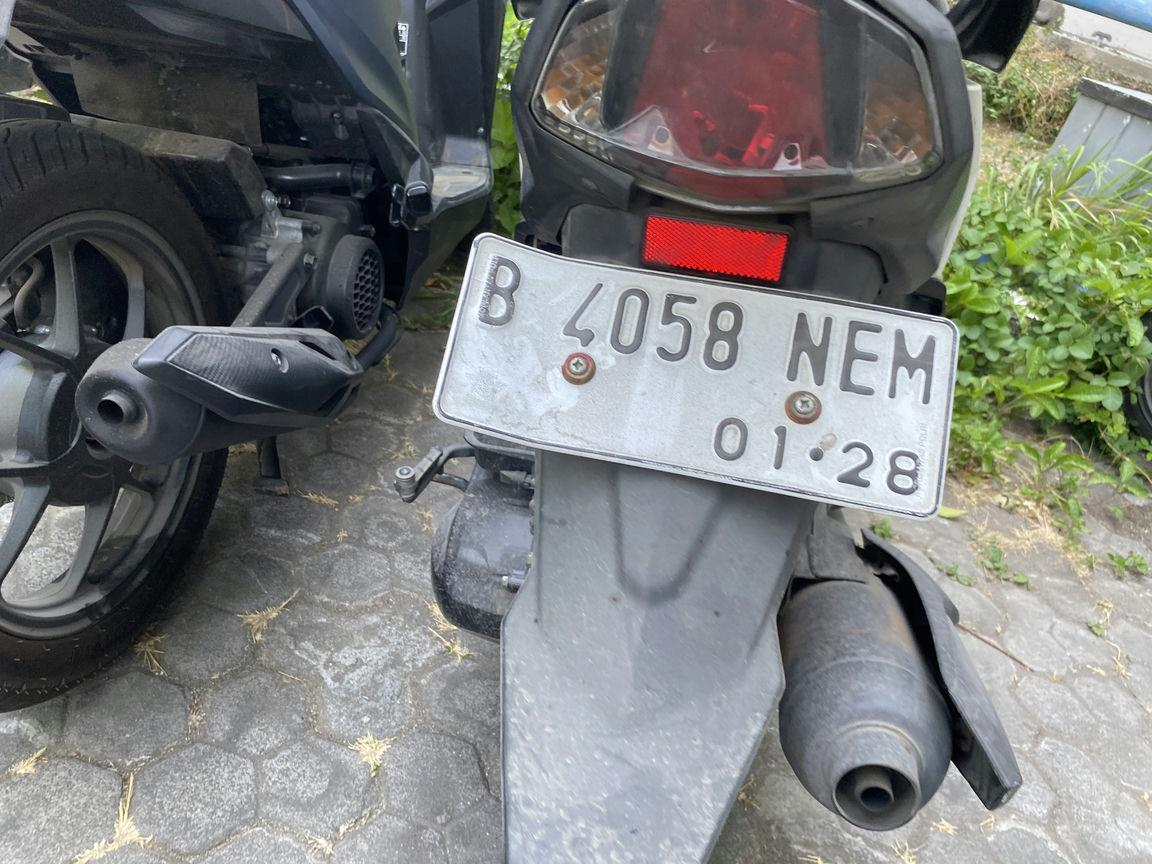plat: (434, 234, 958, 518)
